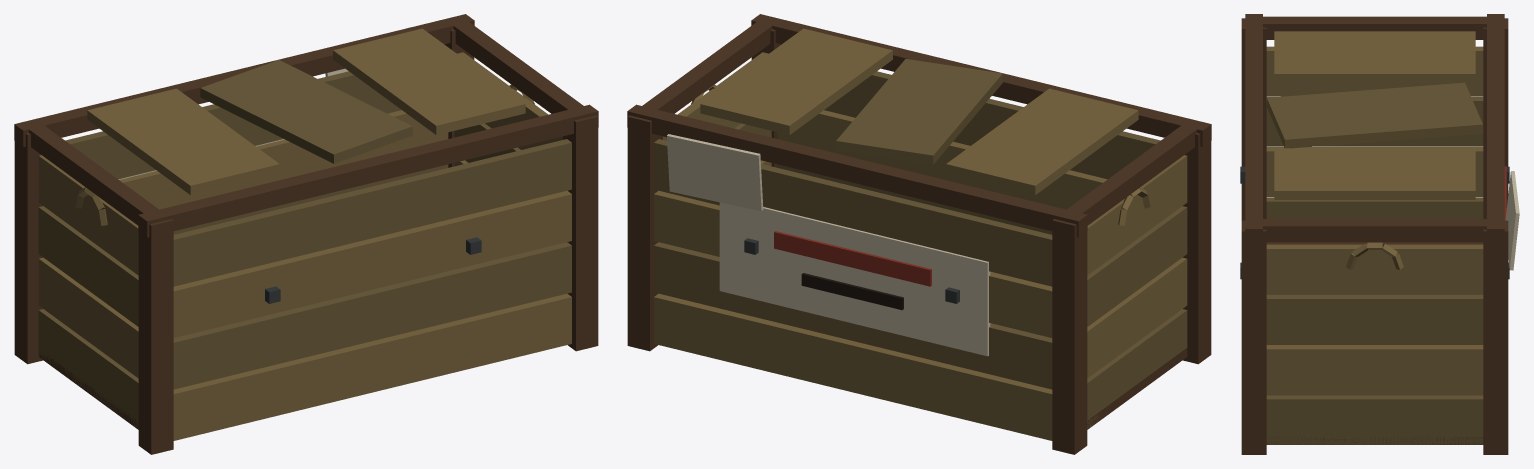
File: prop_shipping_crate.glb
The picture shows the model from 3 angles, left to right: view 1: azimuth 30°, elevation 25°; view 2: azimuth 150°, elevation 25°; view 3: azimuth 270°, elevation 25°; orthographic projection. The views are drawn at different scales.
Parts seen in each view (by area): view 1: Crate; view 2: Crate; view 3: Crate.
Part boxes in pixels (<box>): Crate: <box>14,14,598,454</box>; Crate: <box>627,14,1211,454</box>; Crate: <box>1240,14,1519,454</box>.
Bounding box in the file's own units: 2.02 × 1.04 × 1.11.
